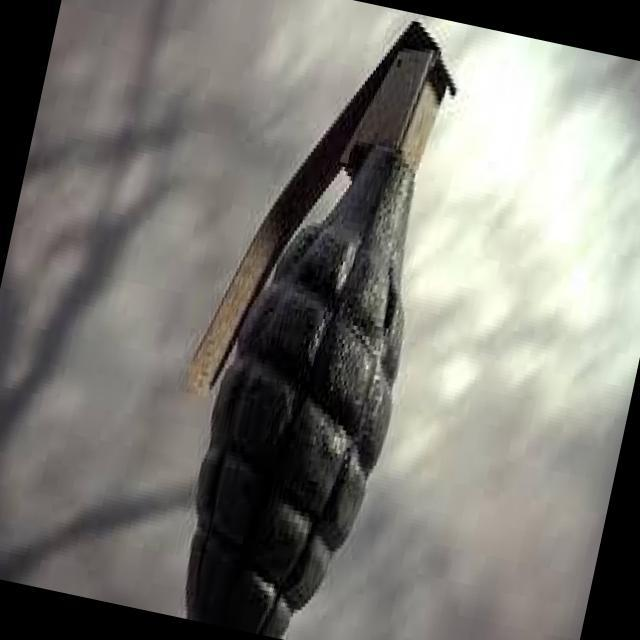grenade: (135, 0, 479, 639)
